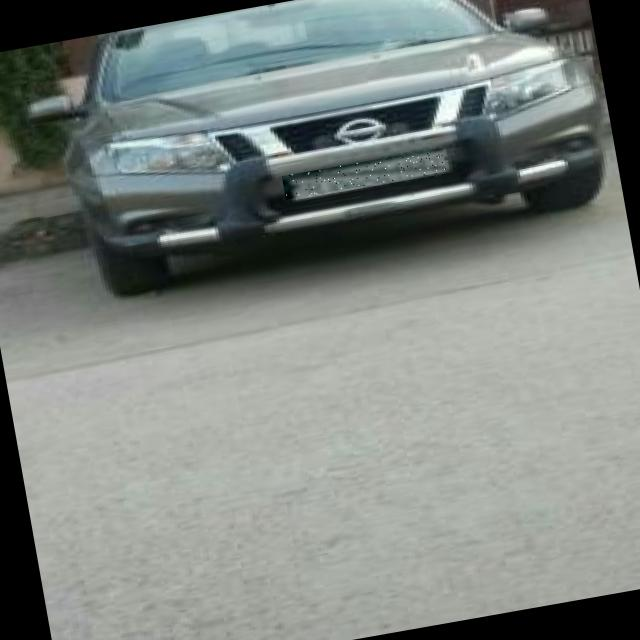Plate: (282, 148, 447, 200)
